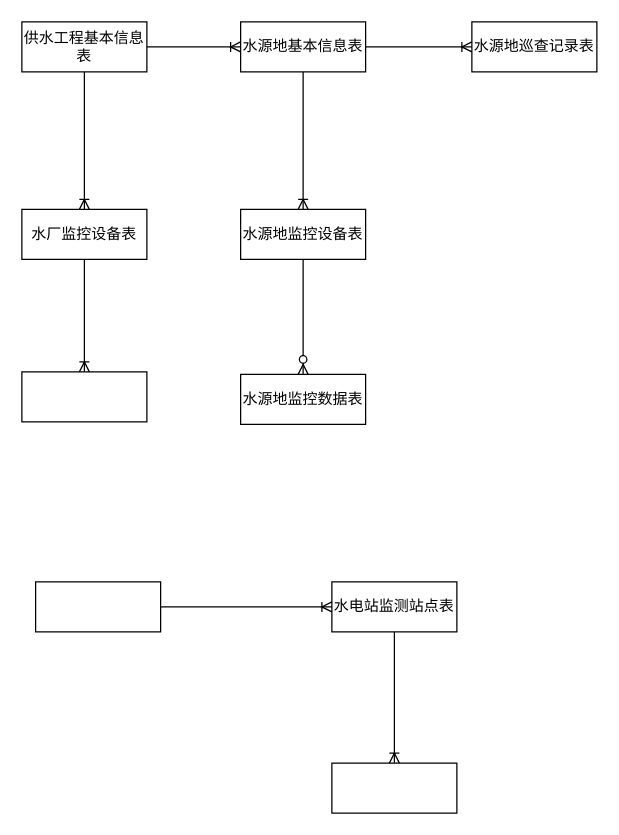
Some shapes in this 619 by 835 pixel diagram are drawn without their labels. Here are the shapes that lost their labels. From the top down, the centre of each, then its label:
[84,396]: 水厂水监控数据表
[97,606]: 水电站基本信息表
[394,787]: 水电站监测数据表
